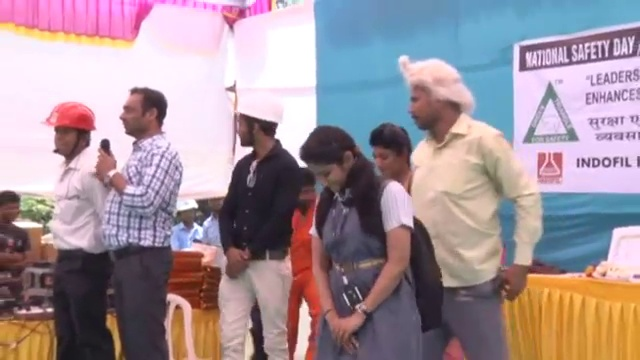helmet: (41, 96, 100, 133), (235, 91, 286, 126), (174, 195, 200, 213)
helmet_off: (401, 60, 475, 133), (301, 127, 362, 205), (366, 121, 418, 187), (112, 88, 170, 144), (232, 97, 285, 151), (290, 173, 317, 217), (0, 188, 19, 230), (195, 198, 219, 221)
helmet_on: (41, 96, 101, 163), (173, 195, 200, 229)
person: (405, 58, 541, 359), (298, 123, 420, 358), (92, 89, 184, 360), (213, 91, 302, 359), (34, 100, 118, 360), (281, 169, 325, 359), (0, 188, 33, 312), (170, 196, 204, 256), (191, 197, 226, 253)
